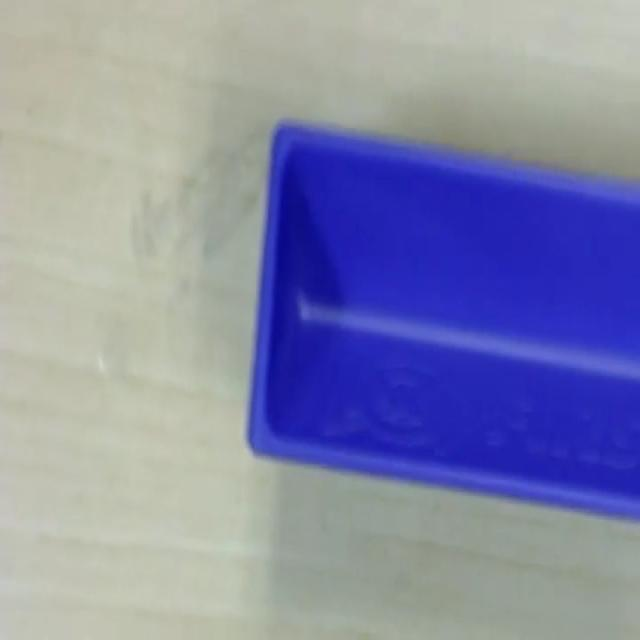blue_block: (246, 115, 638, 520)
